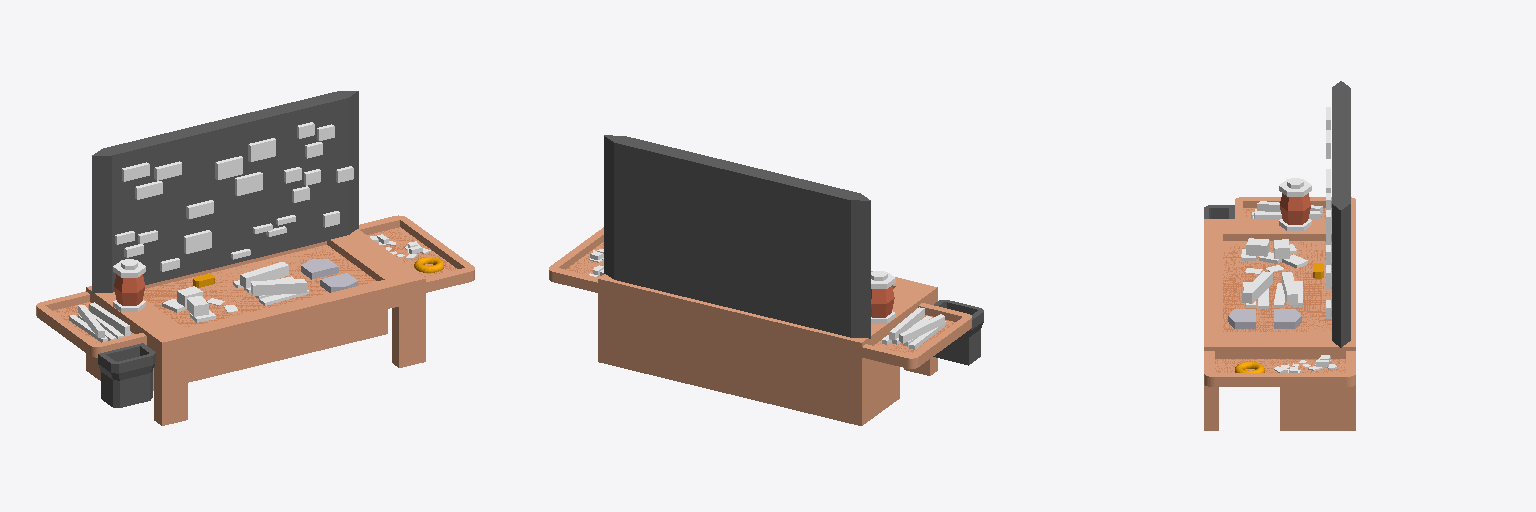
Rendered from Workbench.obj.
3 views of the same model, side by side, from view 1: azimuth 30°, elevation 25°; view 2: azimuth 150°, elevation 25°; view 3: azimuth 270°, elevation 25° (orthographic).
Bounding box in the file's own units: 2.8 × 1.6 × 1.